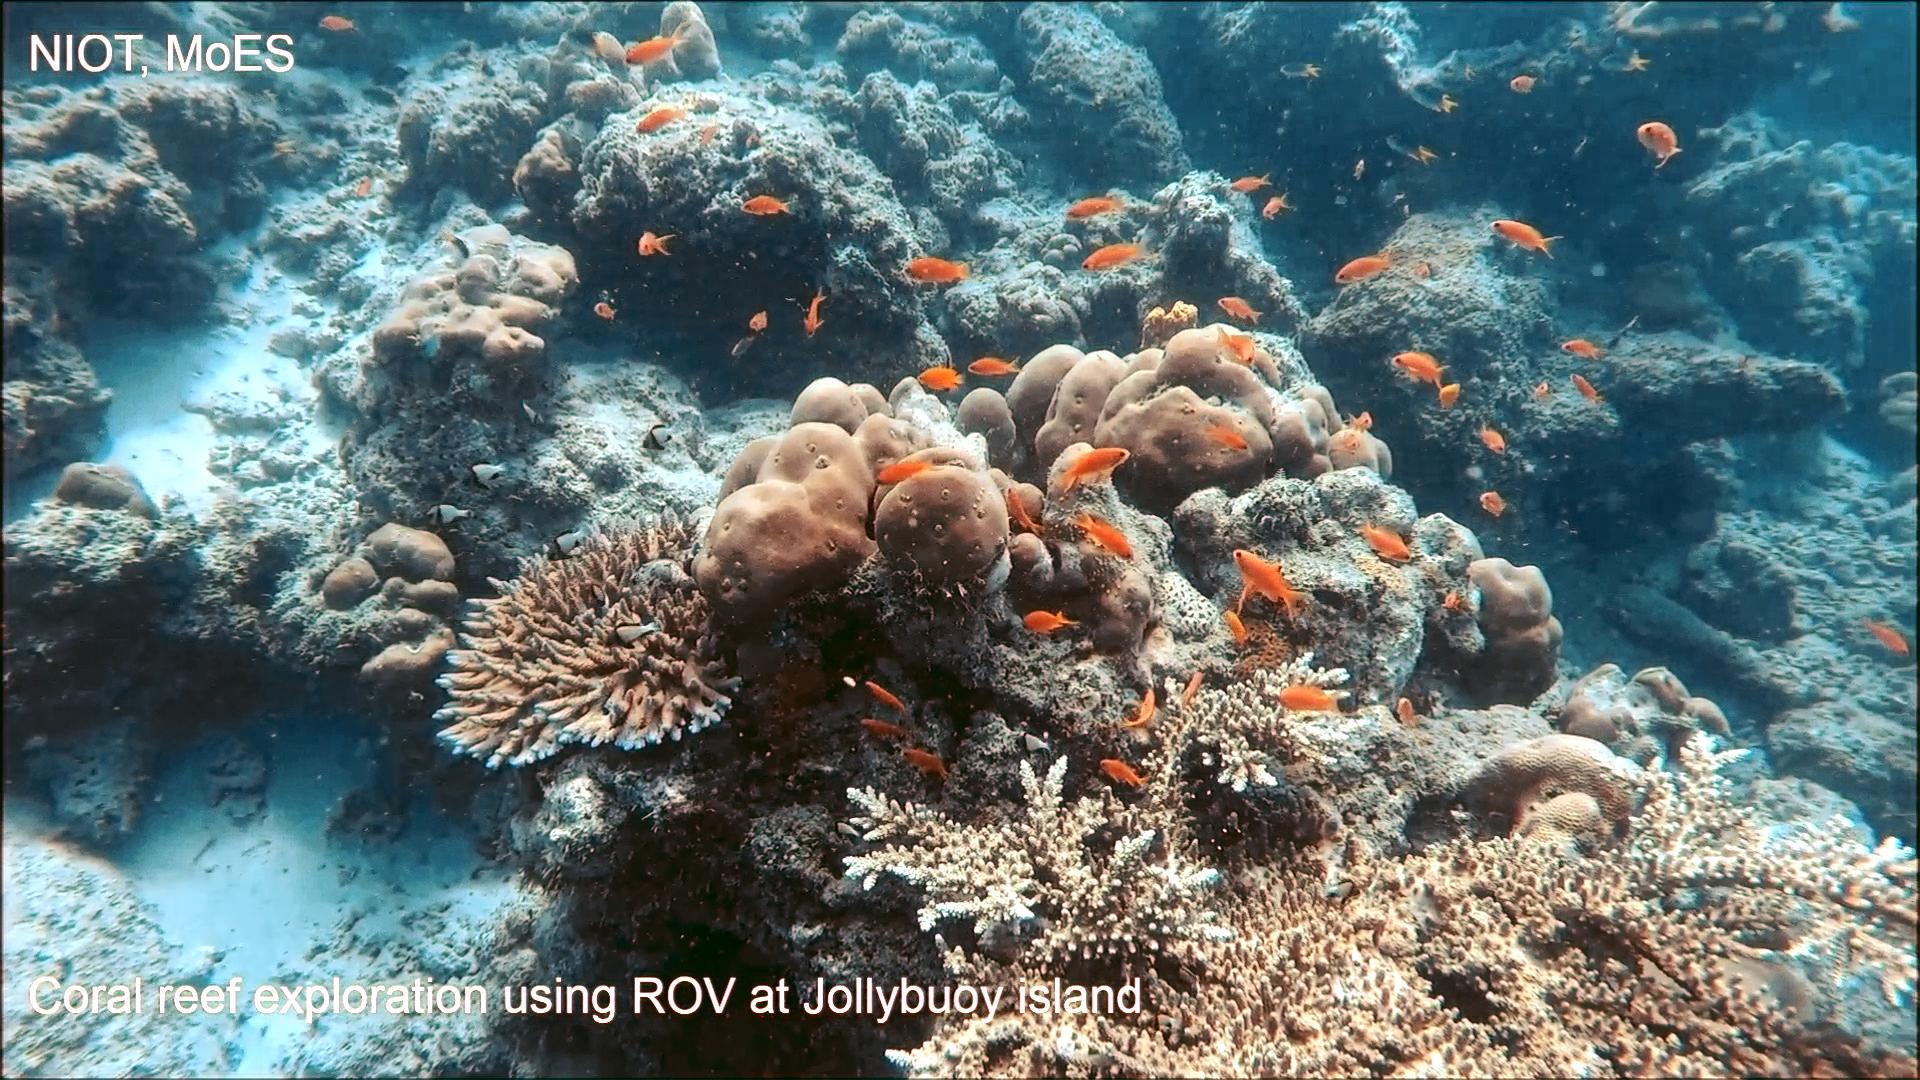Porites-Porites pukoensis: (690, 368, 1015, 626), (984, 318, 1398, 500)
